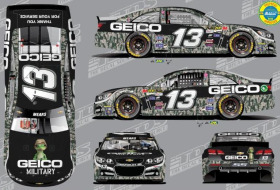Geico: (109, 21, 163, 32), (208, 83, 261, 94), (15, 157, 62, 168)
